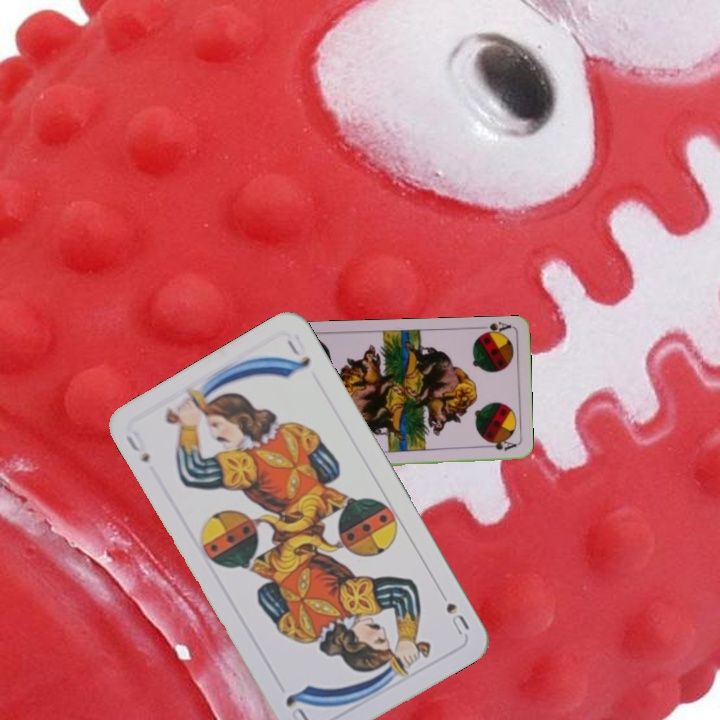SA: (474, 319, 514, 339)
SU: (433, 584, 472, 638), (122, 426, 153, 466)
